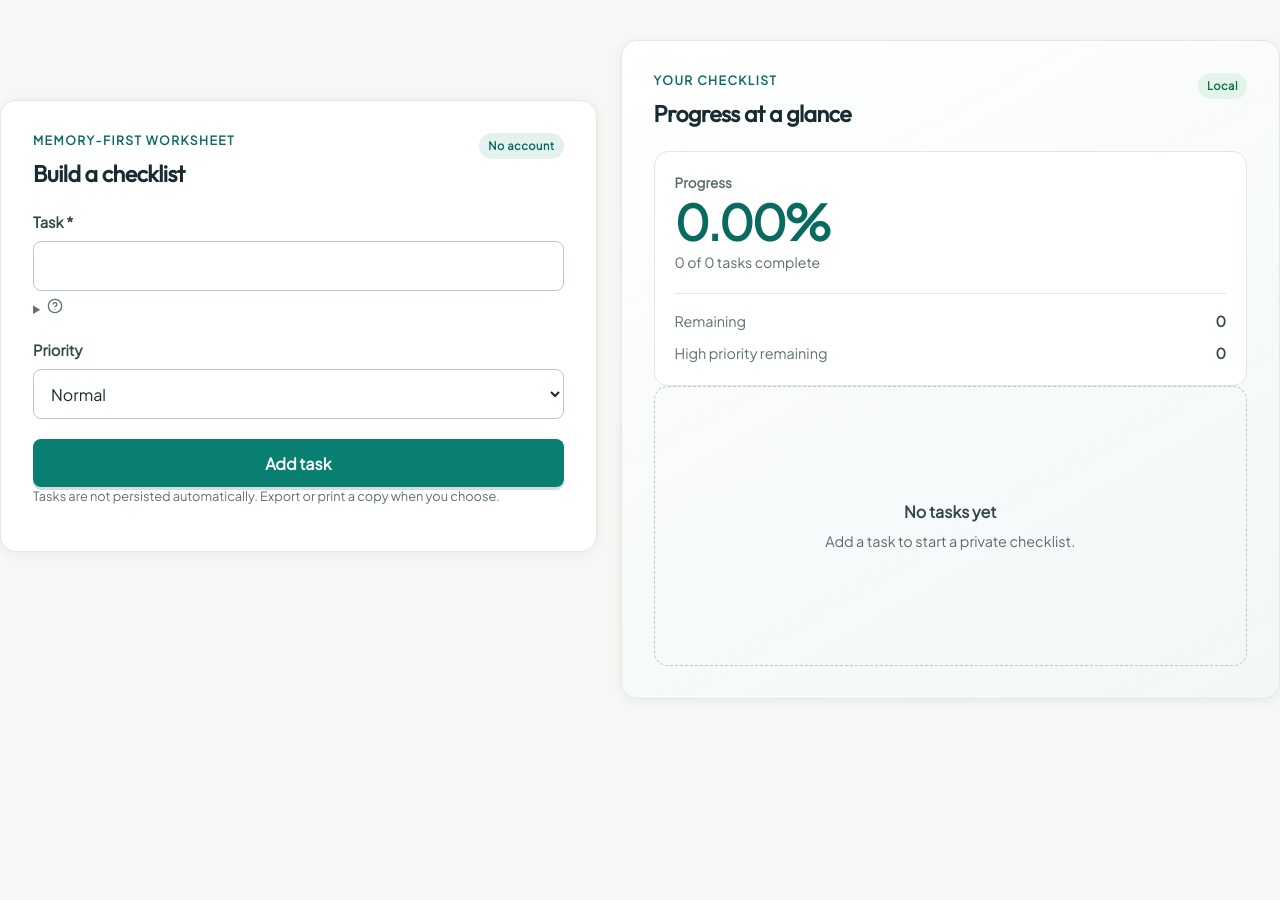
to-do checklist form › keeps tasks in the active page and derives progress
Type "Send quotation" into the field labelled "Task". click: (298, 266)
box: [33,241,564,291]
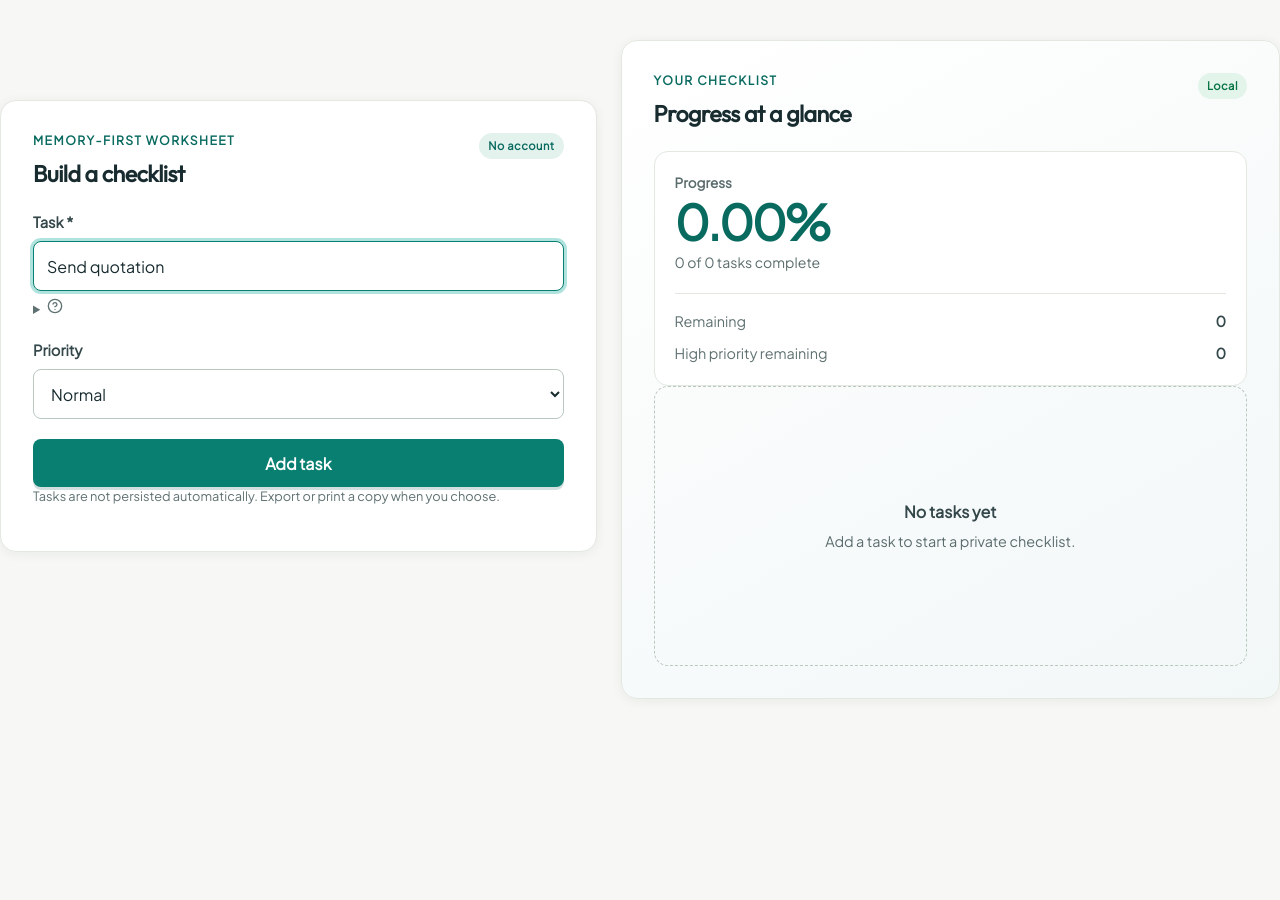
Click the button "Add task". click: (298, 463)
box: [33,439,564,487]
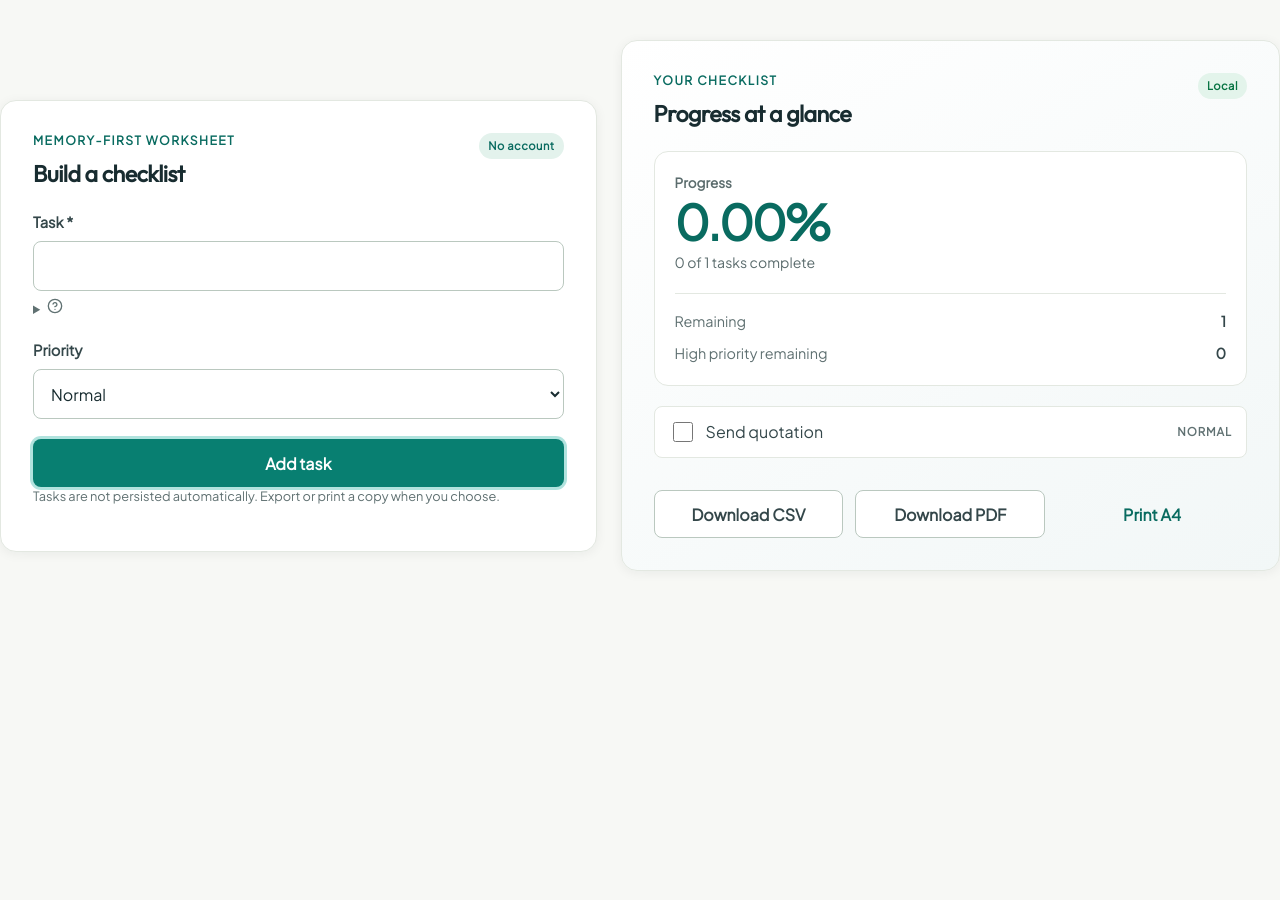
Expected: the text "0.00%" is shown, [675,191,828,252]
Expected: the text "Send quotation" is shown, [706,420,823,445]
Click the checkbox. click: (683, 432)
box: [673,422,693,442]
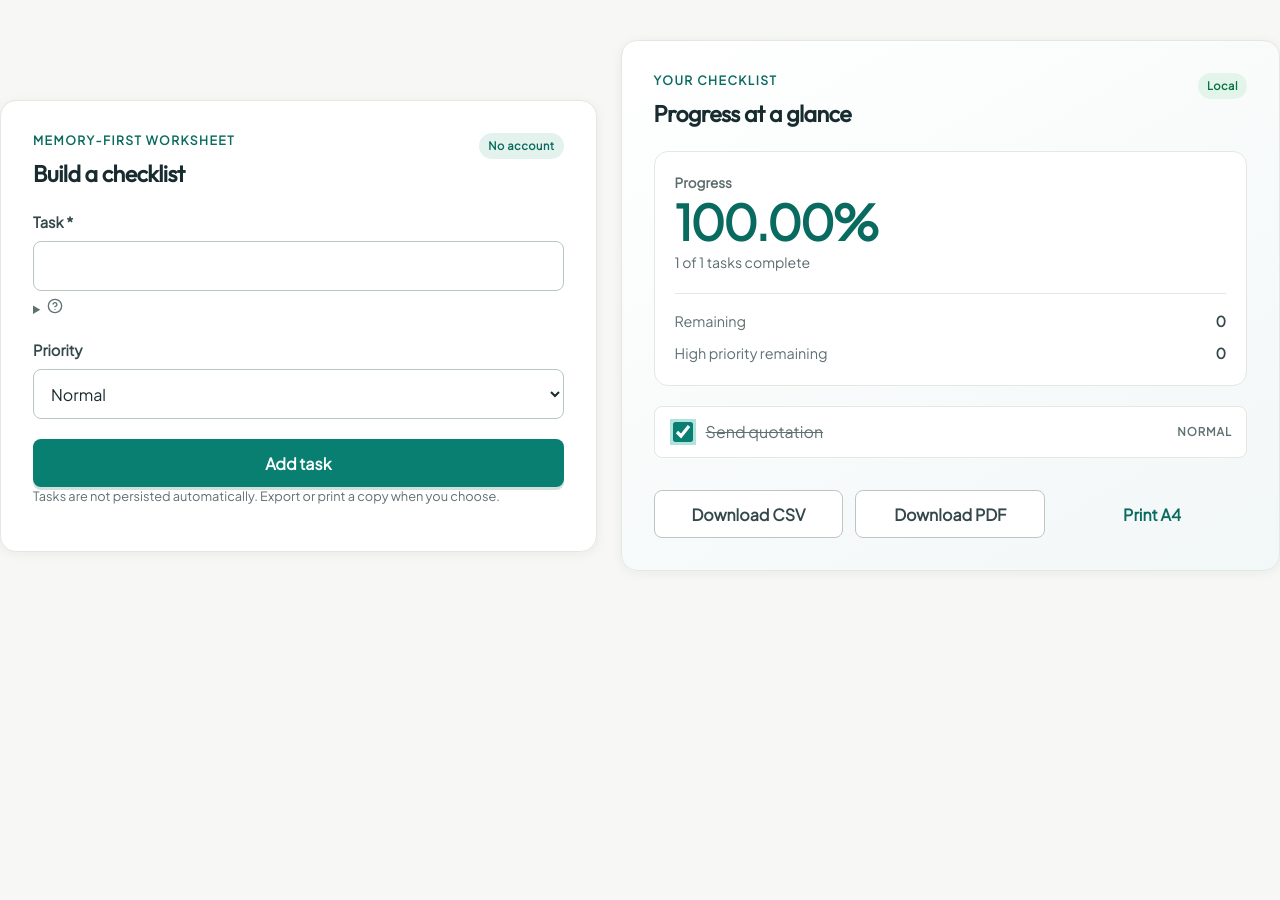
Expected: the text "100.00%" is shown, [675,191,877,252]
